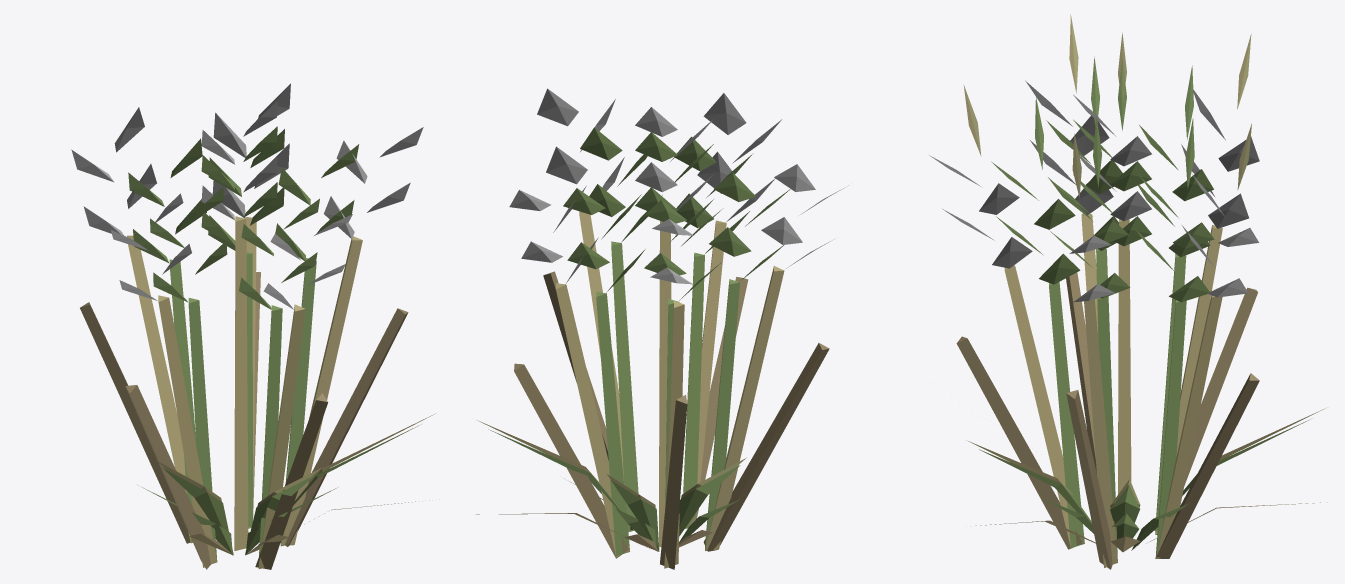
Rendered from wheat.glb.
3 views of the same model, side by side, from view 1: azimuth 30°, elevation 25°; view 2: azimuth 150°, elevation 25°; view 3: azimuth 270°, elevation 25° (orthographic).
Visible parts, largest first — view 1: when_stage_ripe, when_stage_young, when_stage_withered, when_stage_sprout; view 2: when_stage_ripe, when_stage_young, when_stage_withered, when_stage_sprout; view 3: when_stage_ripe, when_stage_young, when_stage_withered, when_stage_sprout.
Part boxes in pixels (<box>): when_stage_ripe: <box>71,83,436,568</box>; when_stage_young: <box>128,126,421,567</box>; when_stage_withered: <box>80,272,429,569</box>; when_stage_sprout: <box>142,487,337,554</box>; when_stage_ripe: <box>478,88,848,568</box>; when_stage_young: <box>488,127,790,567</box>; when_stage_withered: <box>476,271,829,569</box>; when_stage_sprout: <box>563,478,740,546</box>; when_stage_ripe: <box>929,14,1324,567</box>; when_stage_young: <box>979,56,1309,563</box>; when_stage_withered: <box>956,272,1320,569</box>; when_stage_sprout: <box>1043,498,1189,550</box>.
Size of the model in its own units: 0.3044 by 0.4662 by 0.3399.
